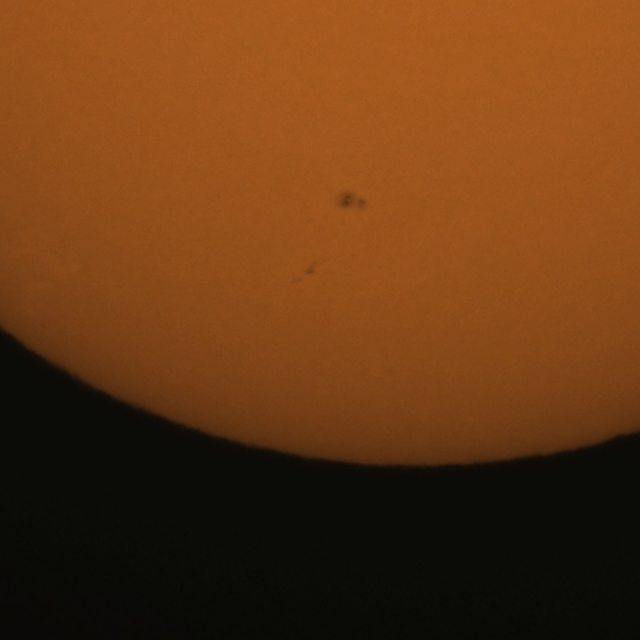sunspot: (338, 191, 369, 212)
